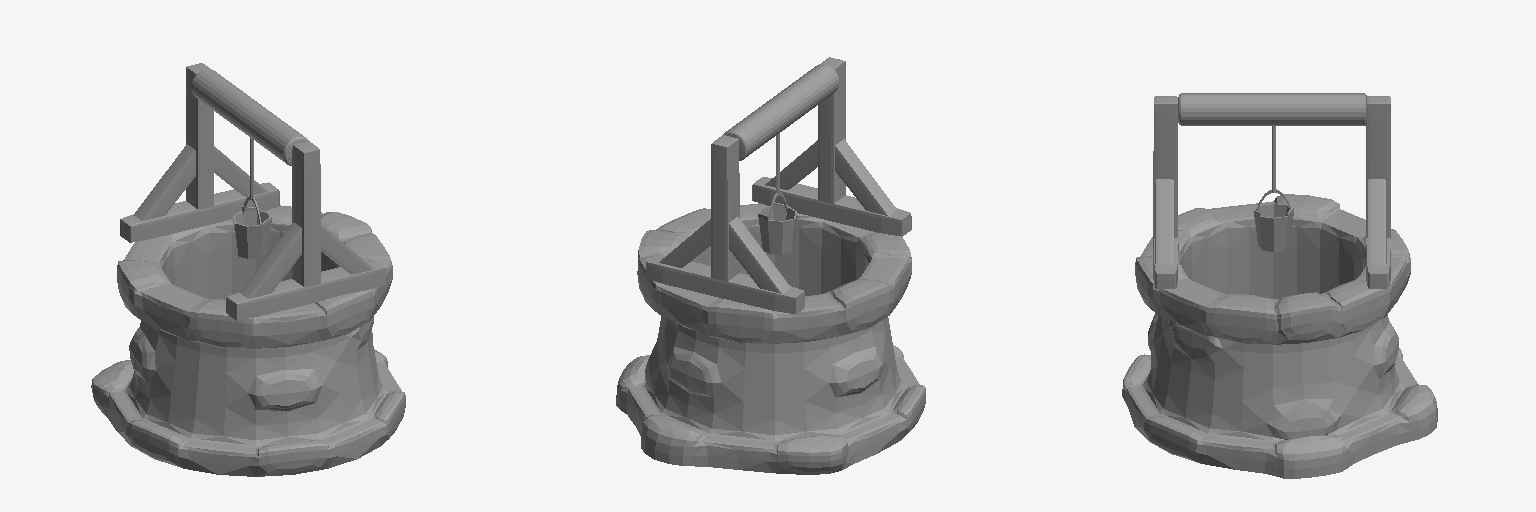
File: well.obj
3 views of the same model, side by side, from view 1: azimuth 30°, elevation 25°; view 2: azimuth 150°, elevation 25°; view 3: azimuth 270°, elevation 25° (orthographic).
Visible parts, largest first — view 1: Circle; view 2: Circle; view 3: Circle.
Boxes of the visible parts, x1=… form: Circle: x1=91, y1=63, x2=405, y2=476; Circle: x1=616, y1=57, x2=925, y2=474; Circle: x1=1122, y1=93, x2=1437, y2=478.
Size of the model in its own units: 2.09 by 2.33 by 2.12.